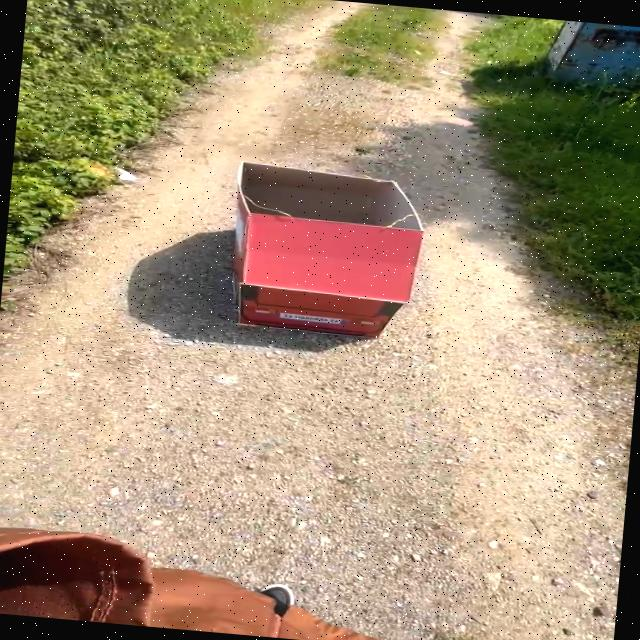red_car: (164, 130, 462, 360)
